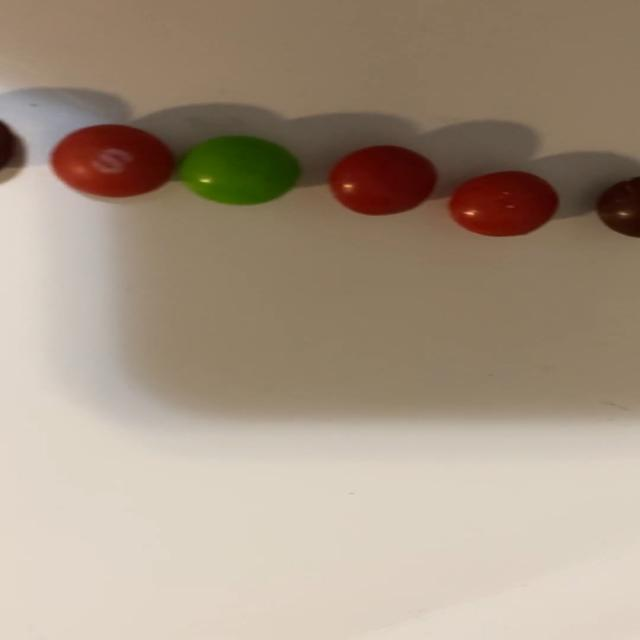smartie: (49, 124, 173, 196), (180, 136, 299, 204), (329, 145, 436, 215), (450, 171, 558, 236)
